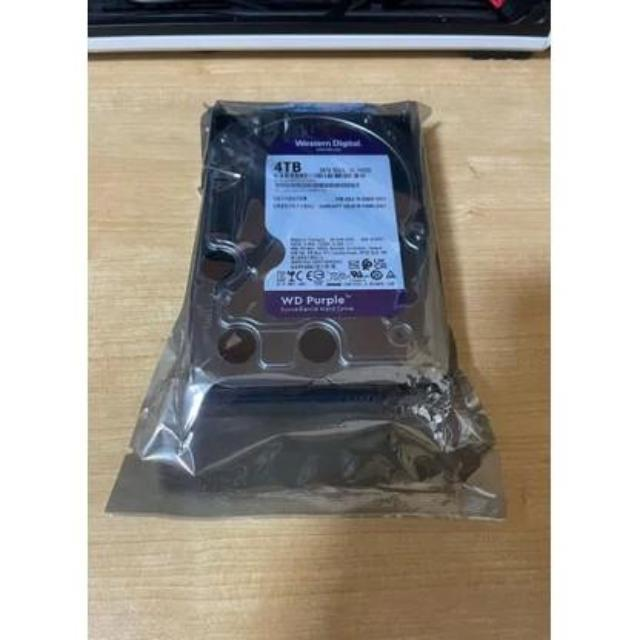DISK: (197, 90, 454, 408)
